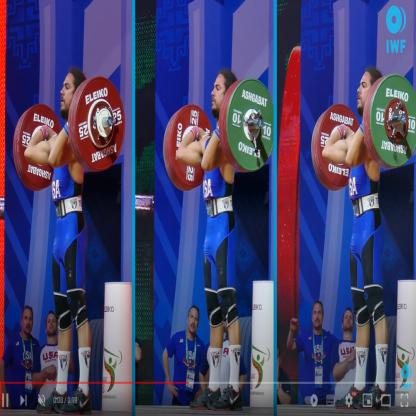Barbell: (67, 73, 127, 175), (224, 77, 273, 183)
